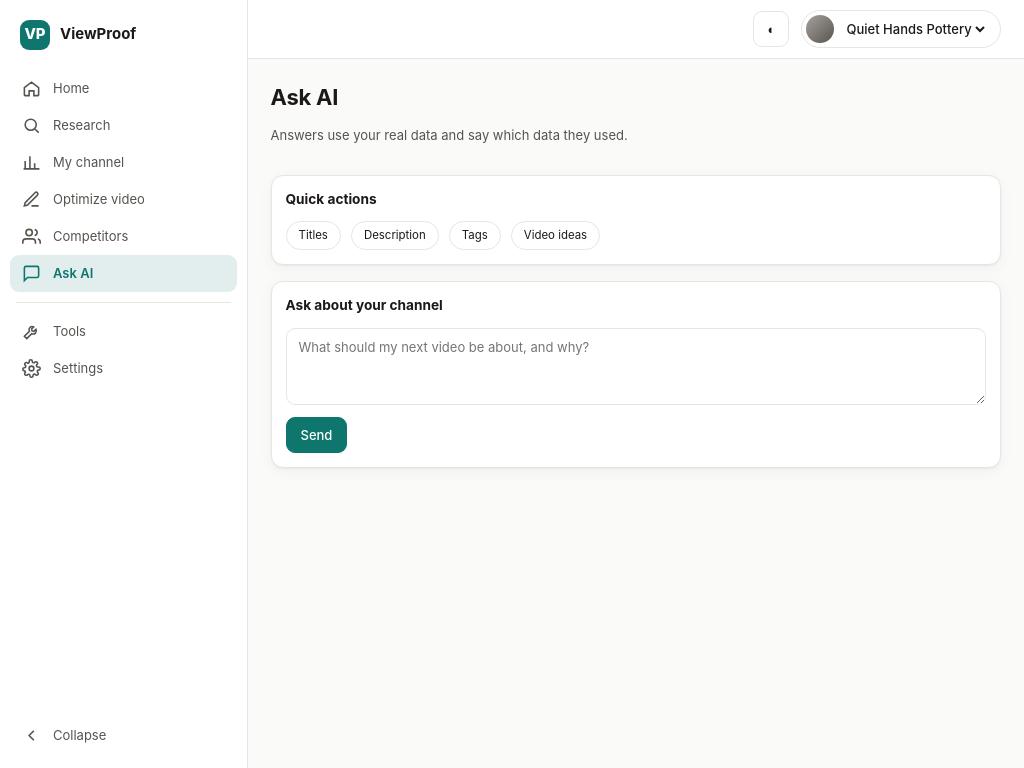
Test: Ask AI › limit refusal offers adding a key
Type "hi" into the text box named "Ask about your channel".
click(636, 366); type("hi")  # box [286,328,986,405]
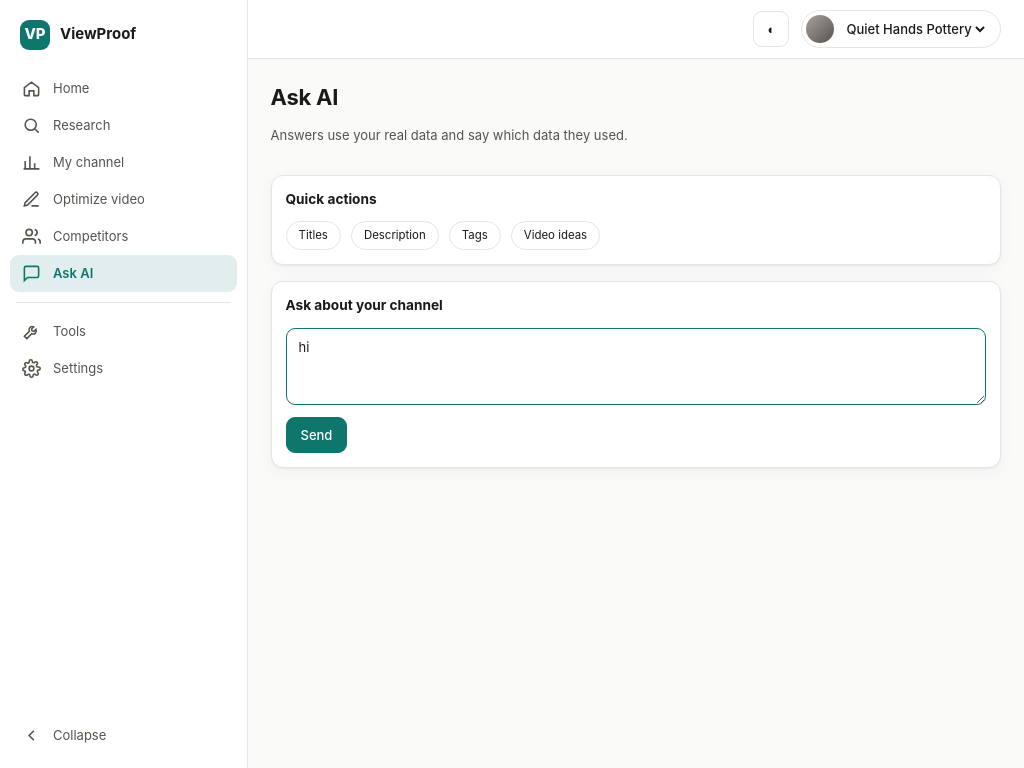
Click the button "Send".
click(316, 435)  # box [286,417,347,453]
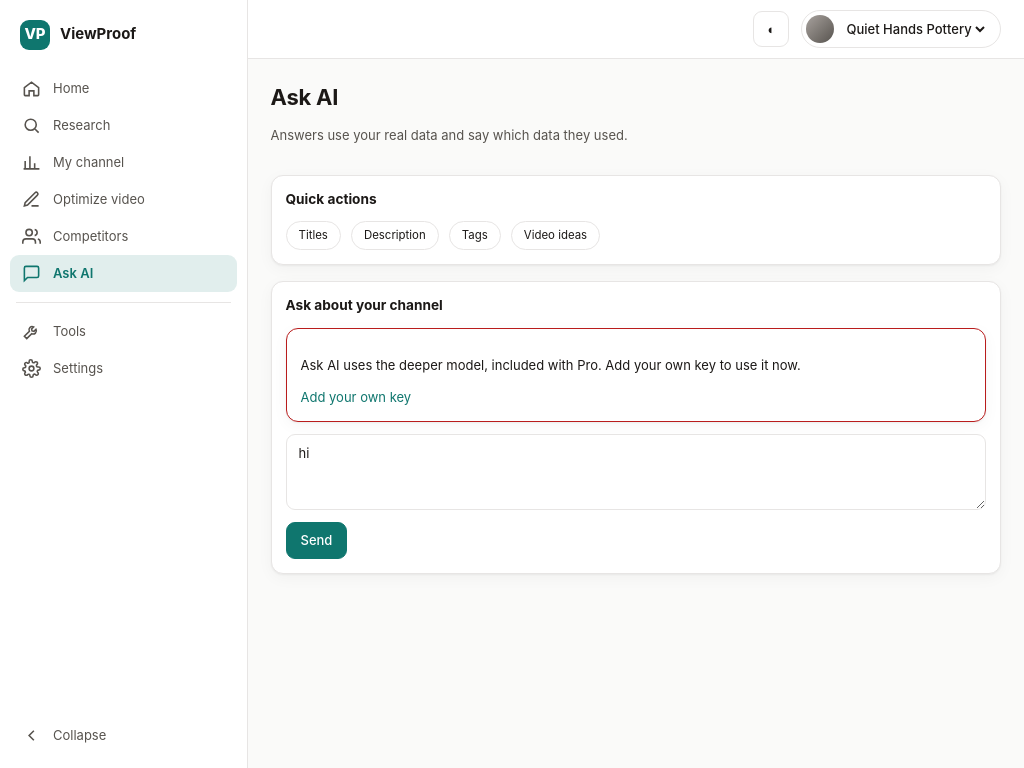
Check: the text "included with Pro" is shown, box [300,357,801,373]
